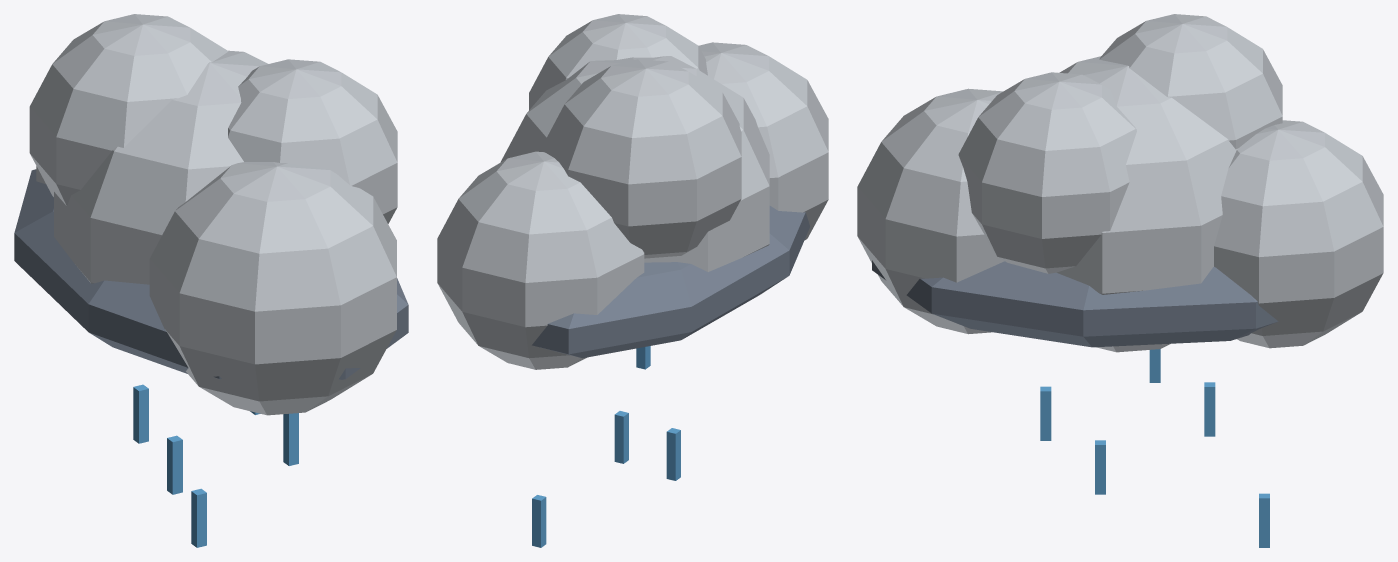
Rendered from hat_storm_cloud.glb.
3 views of the same model, side by side, from view 1: azimuth 30°, elevation 25°; view 2: azimuth 150°, elevation 25°; view 3: azimuth 270°, elevation 25° (orthographic). The views are drawn at different scales.
Parts seen in each view (by area): view 1: Hat; view 2: Hat; view 3: Hat.
Boxes of the visible parts, bbox=[...] form: Hat: bbox=[14, 14, 408, 547]; Hat: bbox=[437, 14, 828, 547]; Hat: bbox=[857, 14, 1383, 547].
Bounding box in the file's own units: 0.3456 × 0.5895 × 0.577.
